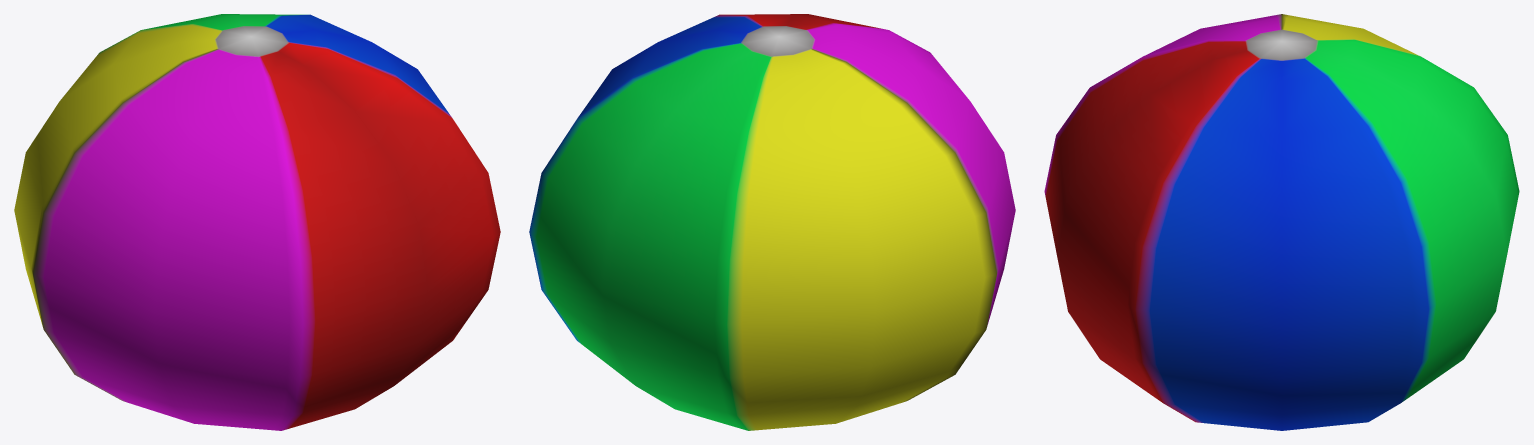
File: Beachbaall.fbx
3 views of the same model, side by side, from view 1: azimuth 30°, elevation 25°; view 2: azimuth 150°, elevation 25°; view 3: azimuth 270°, elevation 25° (orthographic).
Visible parts, largest first — view 1: pSphere2; view 2: pSphere2; view 3: pSphere2.
Part boxes in pixels (bbox=[...]): pSphere2: bbox=[14, 14, 500, 430]; pSphere2: bbox=[529, 14, 1015, 430]; pSphere2: bbox=[1044, 14, 1519, 430].
Size of the model in its own units: 76.11 by 63.16 by 74.31.
